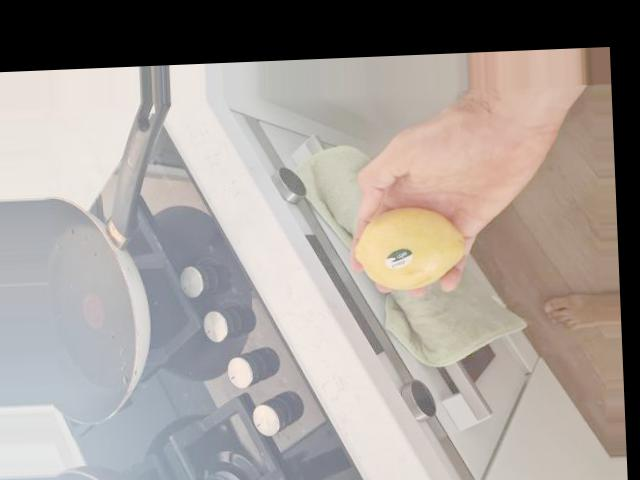lemon: (354, 208, 469, 288)
